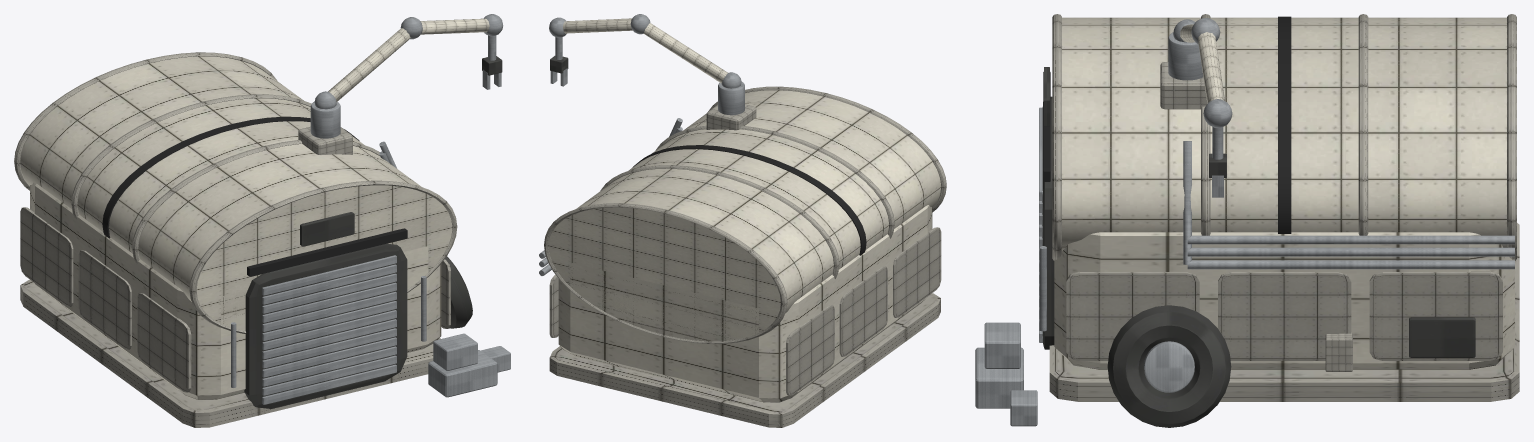
Rendered from workshop.glb.
3 renders of one model, left to right at view 1: azimuth 30°, elevation 25°; view 2: azimuth 150°, elevation 25°; view 3: azimuth 270°, elevation 25°, orthographic. The views are drawn at different scales.
Parts seen in each view (by area): view 1: Cube; view 2: Cube; view 3: Cube.
Part boxes in pixels (x1,y1,x2,y2): Cube: (14, 14, 510, 427); Cube: (539, 14, 946, 427); Cube: (975, 14, 1519, 427).
Bounding box in the file's own units: 9.23 × 7.14 × 8.97.
5 materials, 4 textured.
